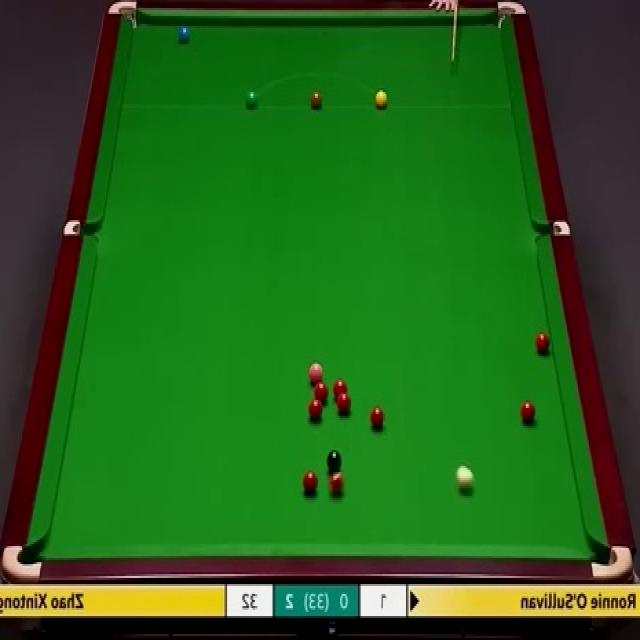black-ball: (325, 451, 341, 473)
blue-ball: (177, 25, 190, 44)
brown-ball: (309, 90, 322, 110)
green-ball: (245, 90, 259, 111)
pink-ball: (308, 359, 324, 384)
red-ball: (328, 471, 343, 501), (369, 405, 385, 432), (533, 332, 550, 356), (302, 470, 318, 494), (520, 400, 536, 424), (308, 396, 323, 421), (314, 380, 330, 402), (333, 378, 347, 401), (337, 393, 351, 414)
white-ball: (456, 465, 475, 493)
yellow-ball: (374, 89, 389, 110)
